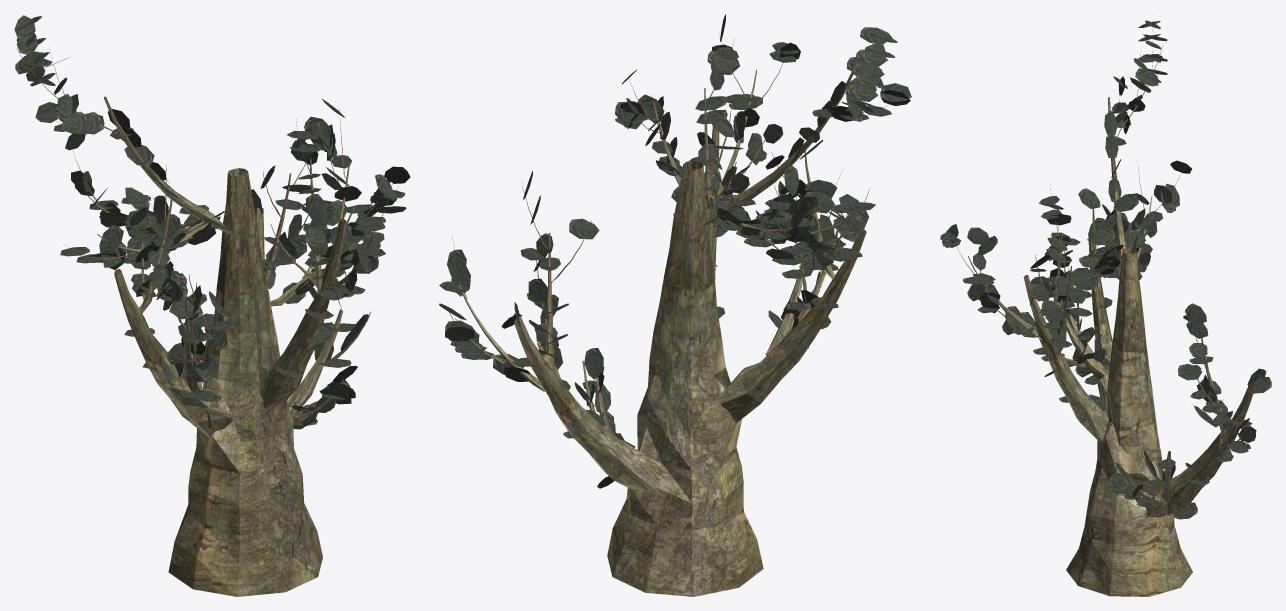
The model's file is tree_6132.obj.
The picture shows the model from 3 angles, left to right: view 1: azimuth 30°, elevation 25°; view 2: azimuth 150°, elevation 25°; view 3: azimuth 270°, elevation 25°; orthographic projection. The views are drawn at different scales.
Parts seen in each view (by area): view 1: object2, object178, object3, object86, object281; view 2: object2, object253, object178, object86, object304, object183; view 3: object2, object3, object253, object178, object183, object86, object281.
Boxes of the visible parts, bbox=[...] form: object2: bbox=[168, 168, 322, 596]; object178: bbox=[114, 269, 237, 437]; object3: bbox=[259, 218, 346, 409]; object86: bbox=[104, 96, 236, 233]; object281: bbox=[287, 309, 342, 415]; object2: bbox=[607, 160, 763, 596]; object253: bbox=[513, 313, 662, 491]; object178: bbox=[719, 228, 866, 423]; object86: bbox=[703, 72, 853, 226]; object304: bbox=[542, 233, 557, 379]; object183: bbox=[766, 264, 802, 354]; object2: bbox=[1066, 247, 1192, 596]; object3: bbox=[1023, 275, 1108, 442]; object253: bbox=[1145, 381, 1255, 518]; object178: bbox=[1088, 235, 1112, 402]; object183: bbox=[1049, 281, 1105, 379]; object86: bbox=[1108, 97, 1126, 274]; object281: bbox=[1146, 451, 1171, 516].
Bounding box in the file's own units: 1.28 × 1.76 × 1.11.
